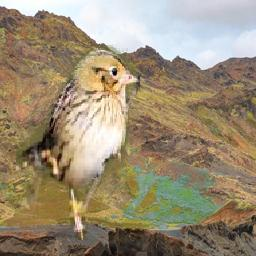Sparrow: (16, 46, 140, 241)
